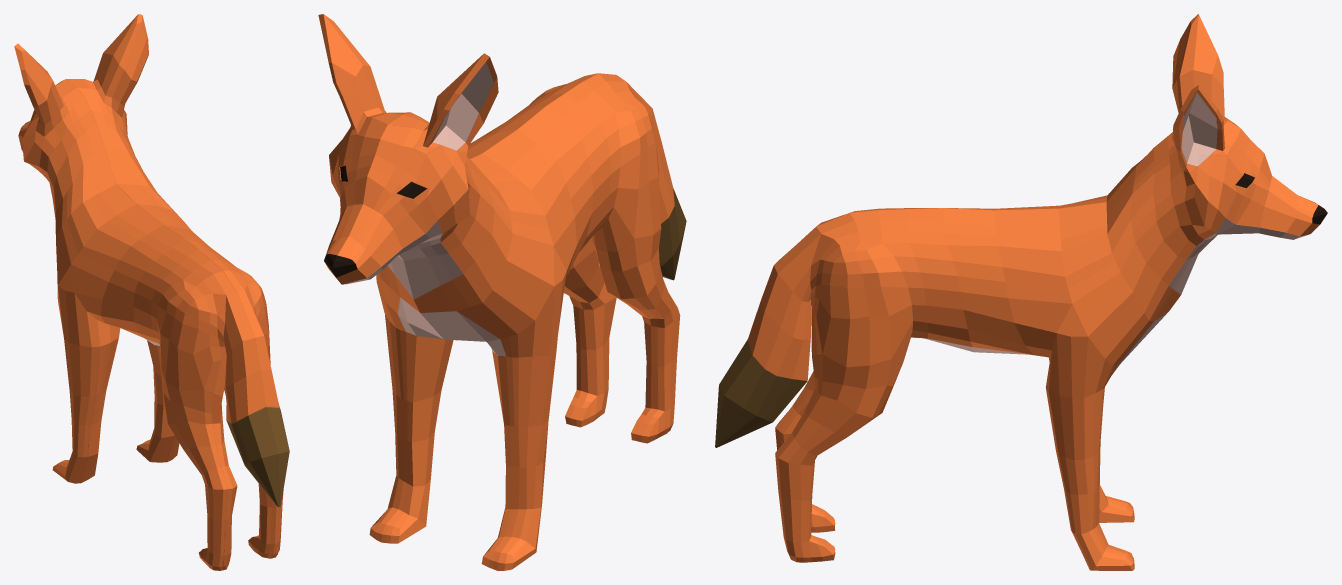
File: LoboEtiope.fbx
The picture shows the model from 3 angles, left to right: view 1: azimuth 30°, elevation 25°; view 2: azimuth 150°, elevation 25°; view 3: azimuth 270°, elevation 25°; orthographic projection. The views are drawn at different scales.
Parts seen in each view (by area): view 1: Plane; view 2: Plane; view 3: Plane.
Part boxes in pixels (x1,y1,x2,y2): Plane: [14, 14, 289, 570]; Plane: [318, 14, 686, 570]; Plane: [715, 14, 1327, 570].
Size of the model in its own units: 219 by 645 by 725.
Materials: 1 (1 with a texture image).
